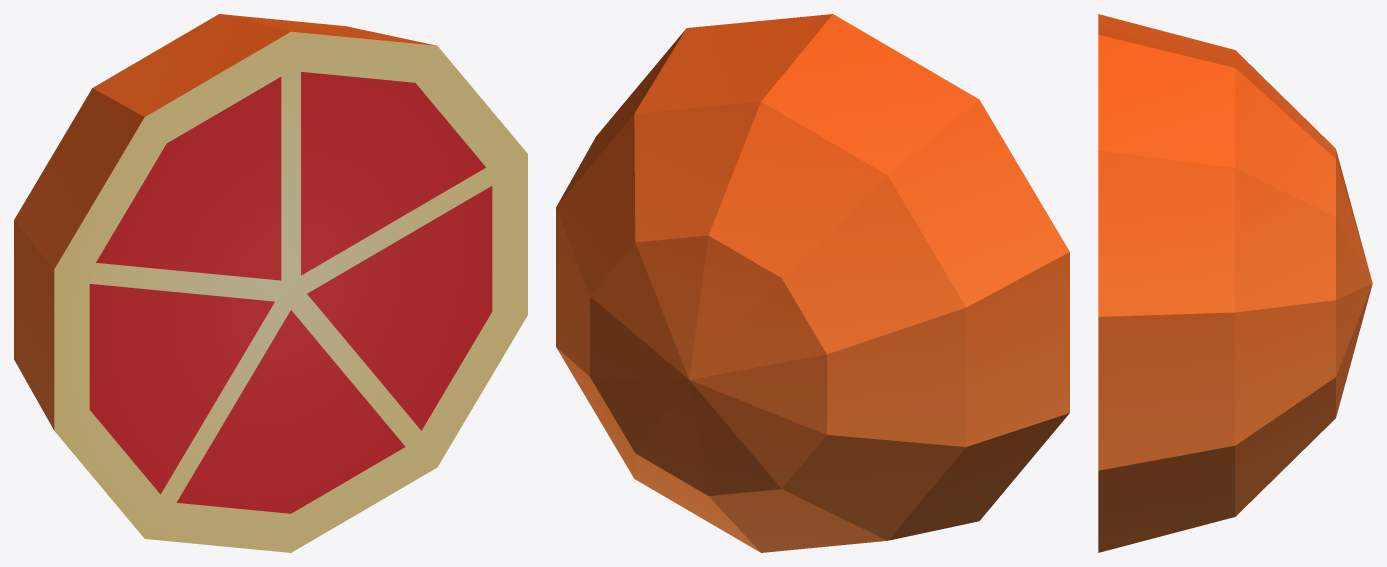
File: Grapefruit Half.fbx
3 renders of one model, left to right at view 1: azimuth 30°, elevation 25°; view 2: azimuth 150°, elevation 25°; view 3: azimuth 270°, elevation 25°, orthographic. The views are drawn at different scales.
Visible parts, largest first — view 1: Grapefruit Half; view 2: Grapefruit Half; view 3: Grapefruit Half.
Boxes of the visible parts, left/top/right/bottom form: Grapefruit Half: left=14, top=14, right=527, bottom=552; Grapefruit Half: left=556, top=14, right=1069, bottom=552; Grapefruit Half: left=1098, top=14, right=1372, bottom=552.
Bounding box in the file's own units: 11.49 × 12.08 × 6.04.
